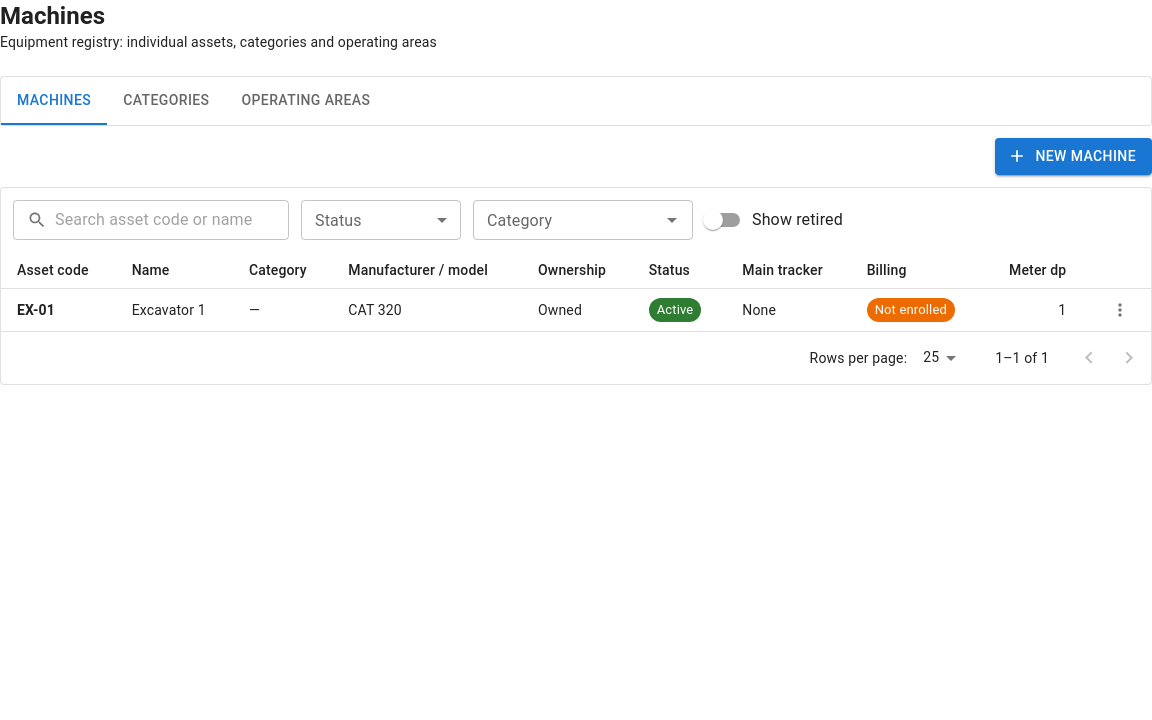
it: machine list row actions › shows a server business error in the dialog
This screenshot has width=1152, height=720.
Click the button named "Actions for EX-01 · Excavator 1" at (1120, 310), box [1105,294,1135,324]
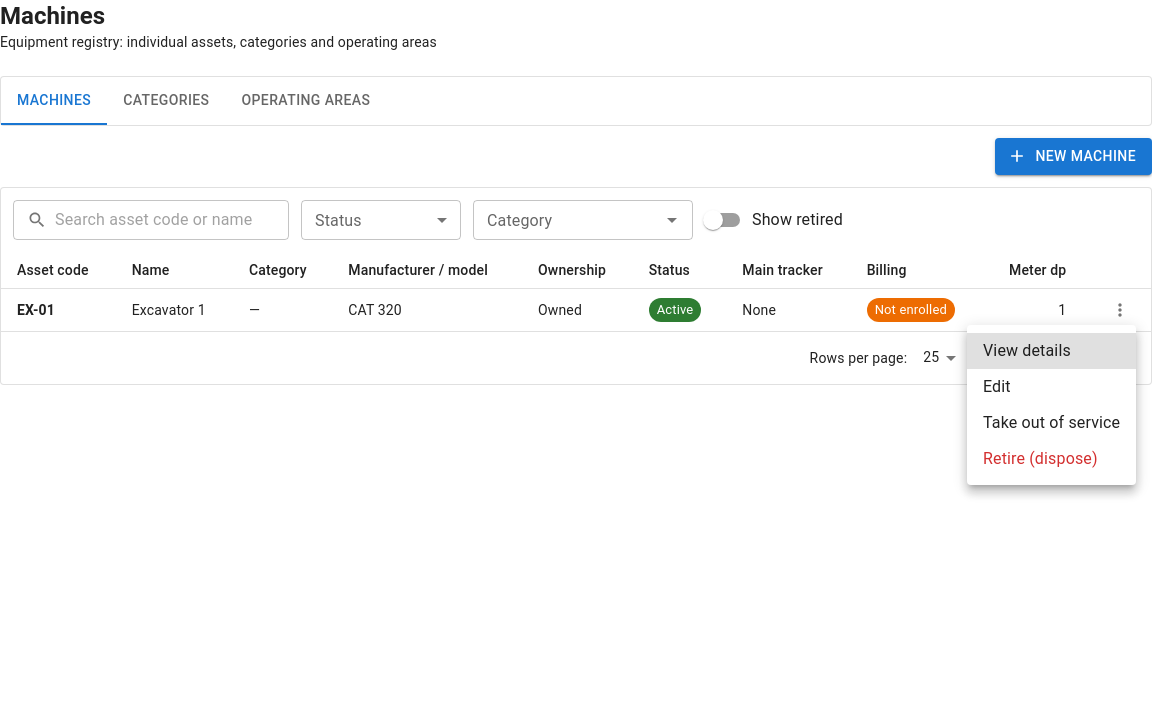
Click the menu item "Retire (dispose)" at (1040, 458), box [983,449,1098,468]
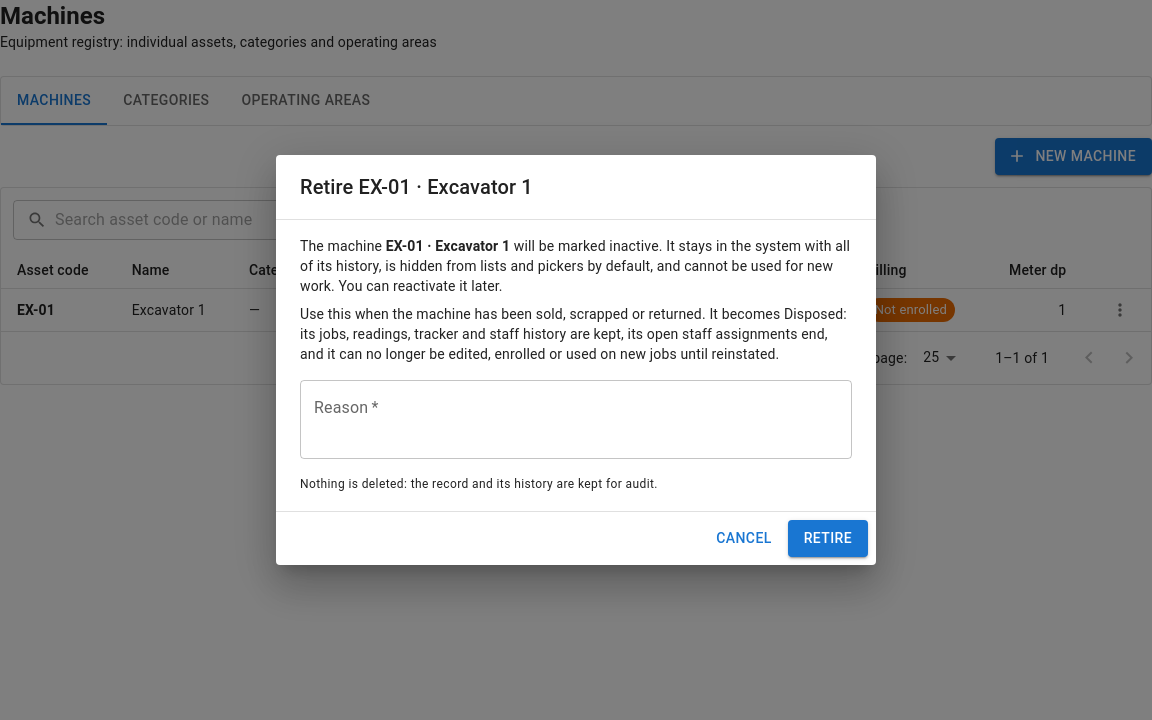
Type "Sold" into the text box labelled "Reason *" at (576, 420), box [314,397,838,443]
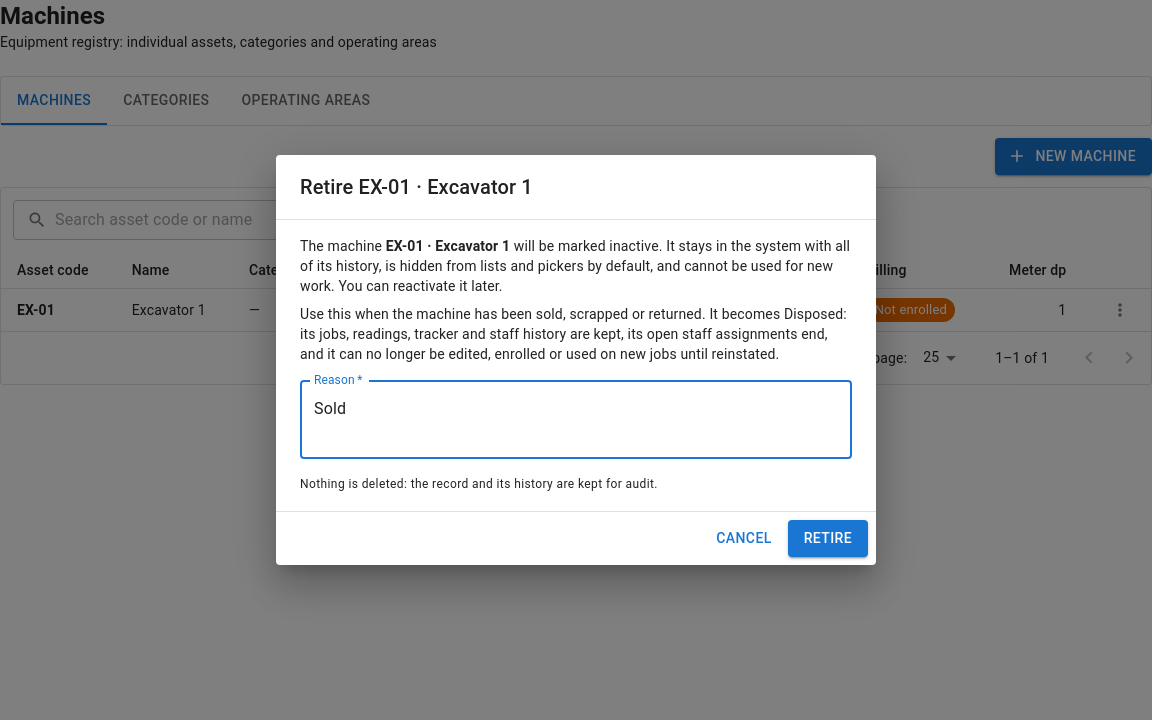
Click the button "Retire" at (828, 539), box [788,520,868,557]
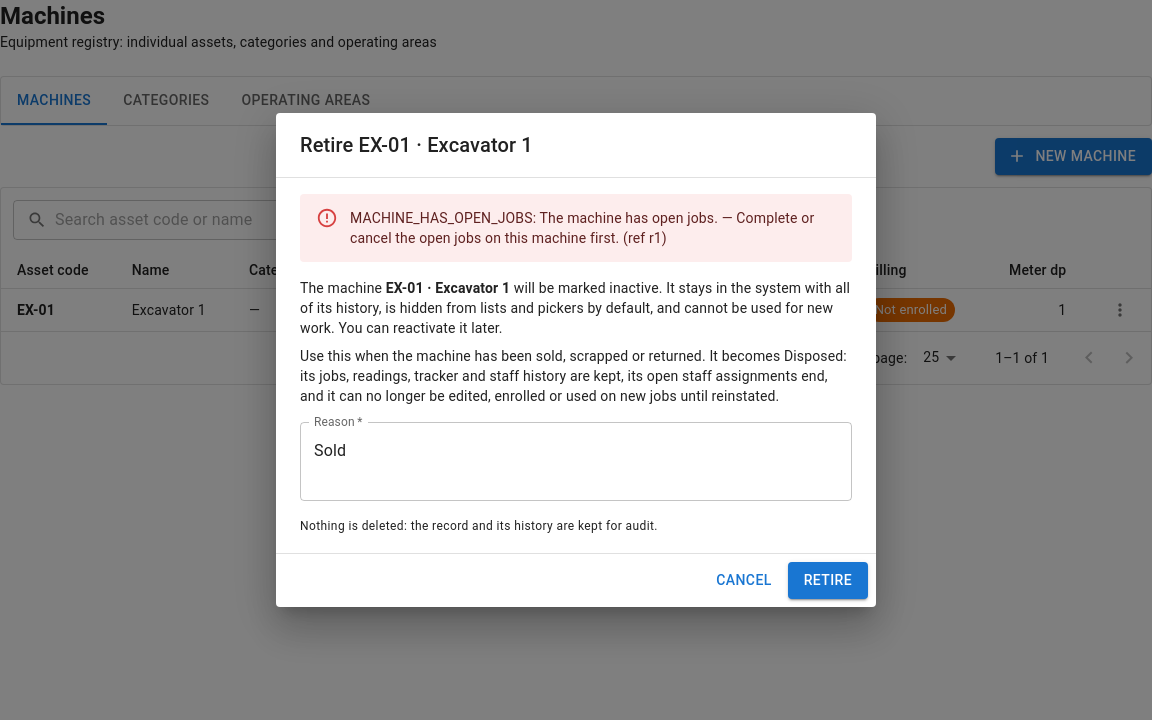
expect the dialog is shown: met, box [276,113,876,607]
expect the text "MACHINE_HAS_OPEN_JOBS: The machine has open jobs. — Complete or cancel the open jobs" is shown: met, box [350,210,814,246]
